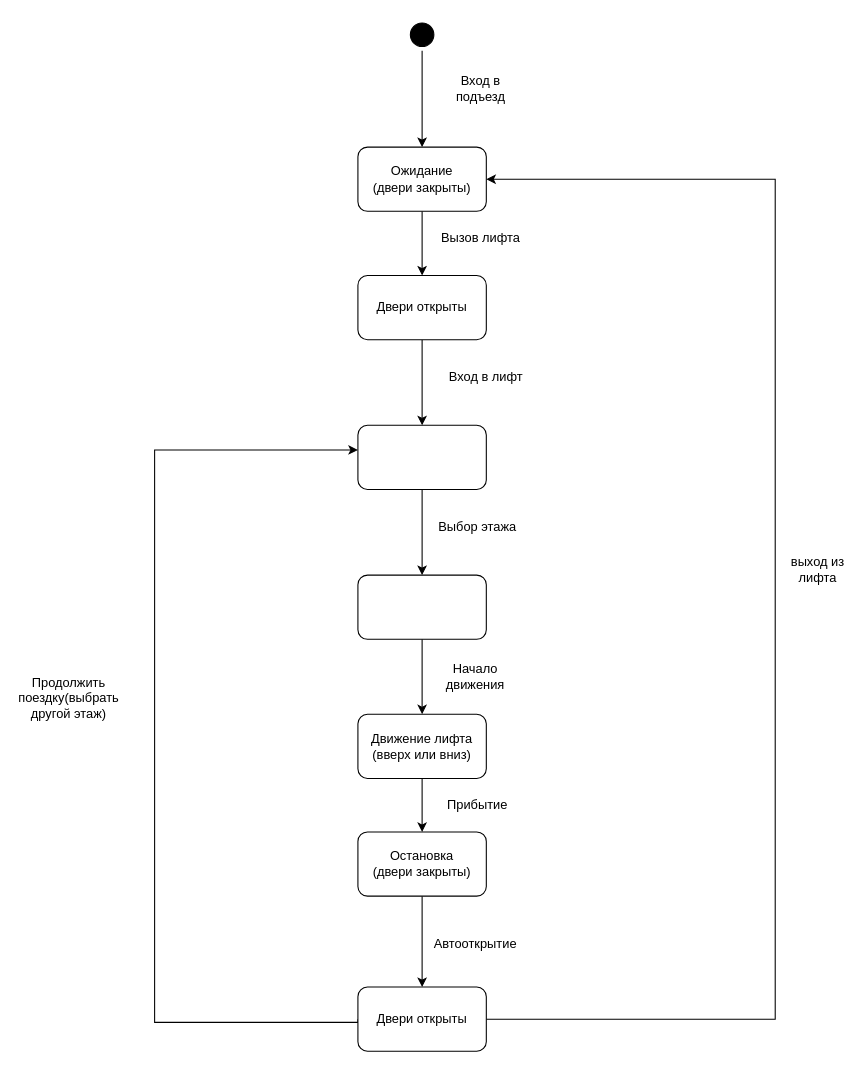
Image size: 868x1070. Some labels were removed from this diagram. Here are the shapes that lost their labels. From the top down, the centre of each, then its label:
At point (421, 457): "Ожидание ( в лифте)".
At point (421, 606): "Двери закрыты".
